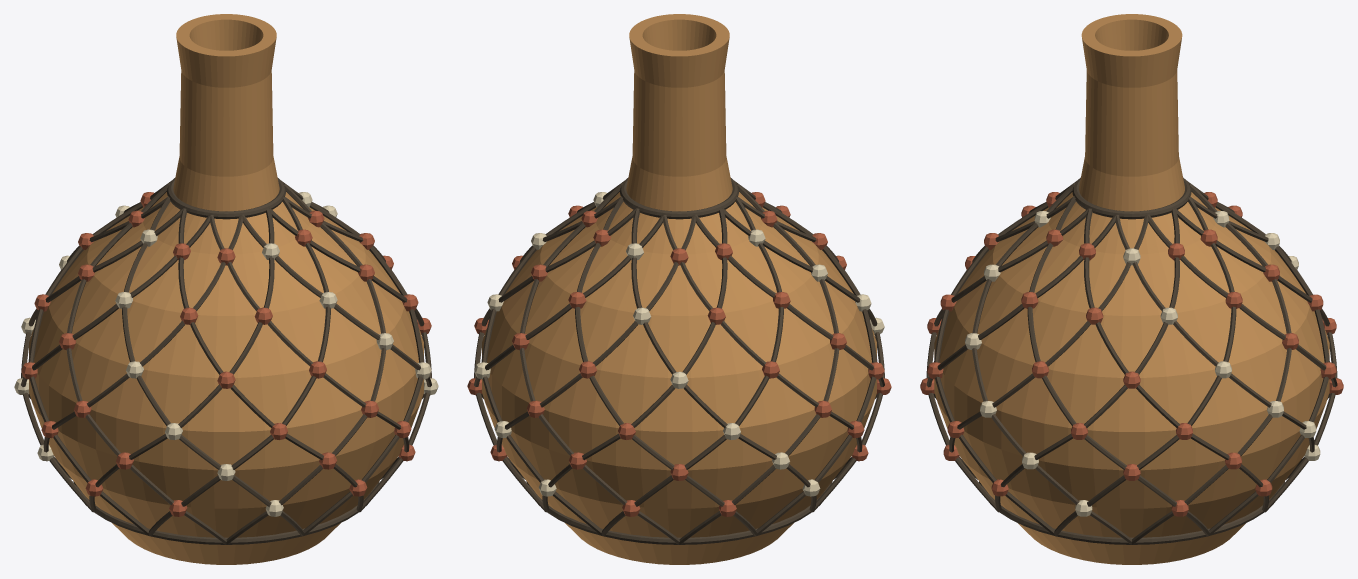
The picture shows the model from 3 angles, left to right: view 1: azimuth 30°, elevation 25°; view 2: azimuth 150°, elevation 25°; view 3: azimuth 270°, elevation 25°; orthographic projection.
Visible parts, largest first — view 1: WholeHollowOpenMouthBottleGourd, WholeDiamondNetCord_B_08, WholeDiamondNetCord_A_08, WholeDiamondNetCord_B_07, WholeDiamondNetCord_A_09, WholeDiamondNetCord_A_07, WholeDiamondNetCord_B_09, WholeLowerNetRetainingCord, WholeDiamondNetCord_B_10, WholeDiamondNetCord_A_06, WholeDiamondNetCord_B_11, WholeDiamondNetCord_A_05 (+7 smaller); view 2: WholeHollowOpenMouthBottleGourd, WholeDiamondNetCord_A_04, WholeDiamondNetCord_B_04, WholeDiamondNetCord_A_05, WholeDiamondNetCord_B_03, WholeDiamondNetCord_B_05, WholeDiamondNetCord_A_03, WholeLowerNetRetainingCord, WholeDiamondNetCord_A_02, WholeDiamondNetCord_B_06, WholeDiamondNetCord_A_01, WholeDiamondNetCord_B_07 (+7 smaller); view 3: WholeHollowOpenMouthBottleGourd, WholeDiamondNetCord_B_00, WholeDiamondNetCord_A_00, WholeDiamondNetCord_B_11, WholeDiamondNetCord_A_01, WholeDiamondNetCord_B_01, WholeDiamondNetCord_A_11, WholeLowerNetRetainingCord, WholeDiamondNetCord_B_02, WholeDiamondNetCord_A_10, WholeDiamondNetCord_B_03, WholeDiamondNetCord_A_09 (+7 smaller).
Part boxes in pixels (left/top/right/bottom): WholeHollowOpenMouthBottleGourd: left=29, top=14, right=423, bottom=564; WholeDiamondNetCord_B_08: left=66, top=184, right=226, bottom=544; WholeDiamondNetCord_A_08: left=226, top=184, right=386, bottom=544; WholeDiamondNetCord_B_07: left=28, top=180, right=171, bottom=535; WholeDiamondNetCord_A_09: left=281, top=180, right=424, bottom=535; WholeDiamondNetCord_A_07: left=148, top=197, right=330, bottom=535; WholeDiamondNetCord_B_09: left=122, top=197, right=304, bottom=535; WholeLowerNetRetainingCord: left=73, top=481, right=379, bottom=544; WholeDiamondNetCord_B_10: left=178, top=208, right=363, bottom=512; WholeDiamondNetCord_A_06: left=89, top=208, right=274, bottom=512; WholeDiamondNetCord_B_11: left=210, top=215, right=409, bottom=479; WholeDiamondNetCord_A_05: left=43, top=215, right=242, bottom=479; WholeHollowOpenMouthBottleGourd: left=482, top=14, right=876, bottom=564; WholeDiamondNetCord_A_04: left=679, top=184, right=839, bottom=544; WholeDiamondNetCord_B_04: left=519, top=184, right=679, bottom=544; WholeDiamondNetCord_A_05: left=734, top=180, right=877, bottom=535; WholeDiamondNetCord_B_03: left=481, top=180, right=624, bottom=535; WholeDiamondNetCord_B_05: left=575, top=197, right=757, bottom=535; WholeDiamondNetCord_A_03: left=601, top=197, right=783, bottom=535; WholeLowerNetRetainingCord: left=526, top=481, right=832, bottom=544; WholeDiamondNetCord_A_02: left=542, top=208, right=727, bottom=512; WholeDiamondNetCord_B_06: left=631, top=208, right=816, bottom=512; WholeDiamondNetCord_A_01: left=496, top=215, right=695, bottom=479; WholeDiamondNetCord_B_07: left=663, top=215, right=862, bottom=479; WholeHollowOpenMouthBottleGourd: left=934, top=14, right=1329, bottom=564; WholeDiamondNetCord_B_00: left=972, top=184, right=1131, bottom=544; WholeDiamondNetCord_A_00: left=1132, top=184, right=1291, bottom=544; WholeDiamondNetCord_B_11: left=934, top=180, right=1077, bottom=535; WholeDiamondNetCord_A_01: left=1186, top=180, right=1329, bottom=535; WholeDiamondNetCord_B_01: left=1027, top=197, right=1209, bottom=535; WholeDiamondNetCord_A_11: left=1054, top=197, right=1236, bottom=535; WholeLowerNetRetainingCord: left=979, top=481, right=1284, bottom=544; WholeDiamondNetCord_B_02: left=1084, top=208, right=1268, bottom=512; WholeDiamondNetCord_A_10: left=995, top=208, right=1179, bottom=512; WholeDiamondNetCord_B_03: left=1115, top=215, right=1314, bottom=479; WholeDiamondNetCord_A_09: left=949, top=215, right=1148, bottom=479.
Bounding box in the file's own units: 0.2522 × 0.326 × 0.2522.
